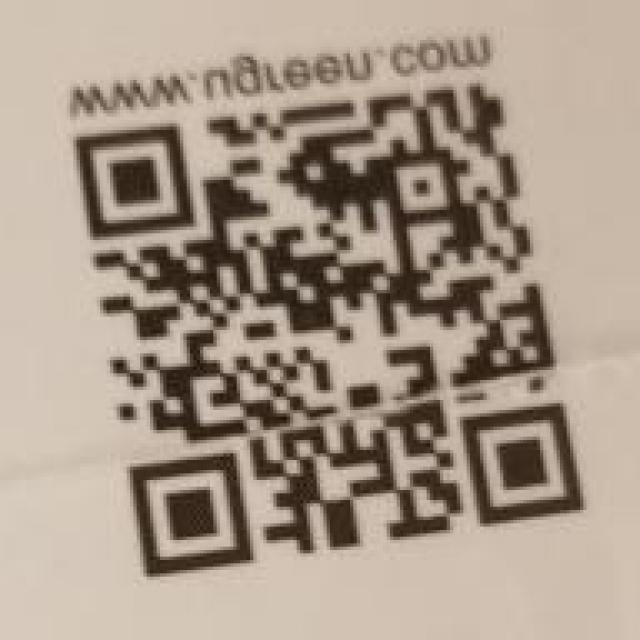qr_code: (74, 82, 585, 579)
